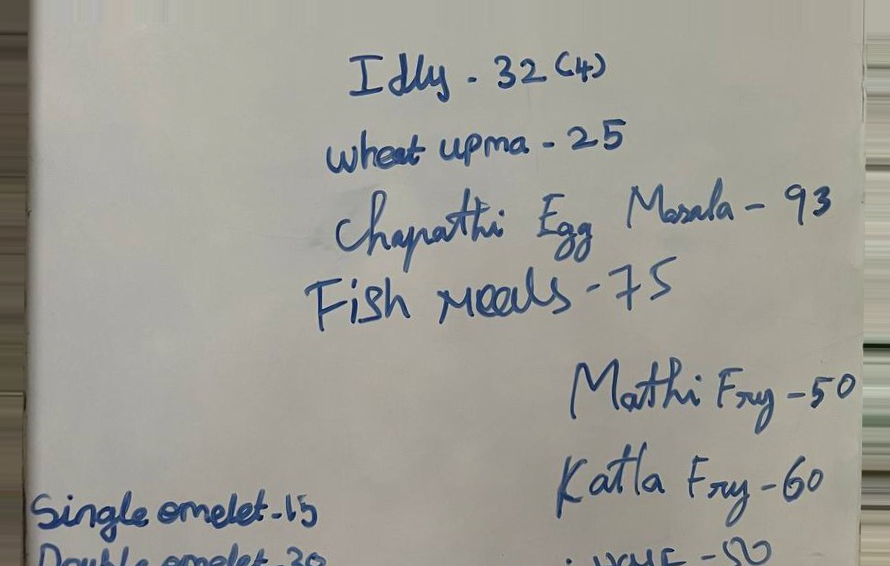chapathi egg masala - 93: (333, 180, 833, 253)
fish Meals - 75: (302, 254, 679, 337)
idly(4) - 32: (343, 47, 608, 105)
katla fry - 60: (553, 446, 826, 525)
mathi fry - 50: (563, 353, 858, 435)
single omelet - 15: (28, 489, 323, 539)
wheat upma - 25: (324, 117, 626, 176)
